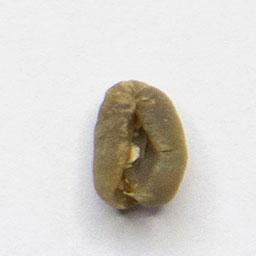peaberry: (88, 76, 190, 215)
